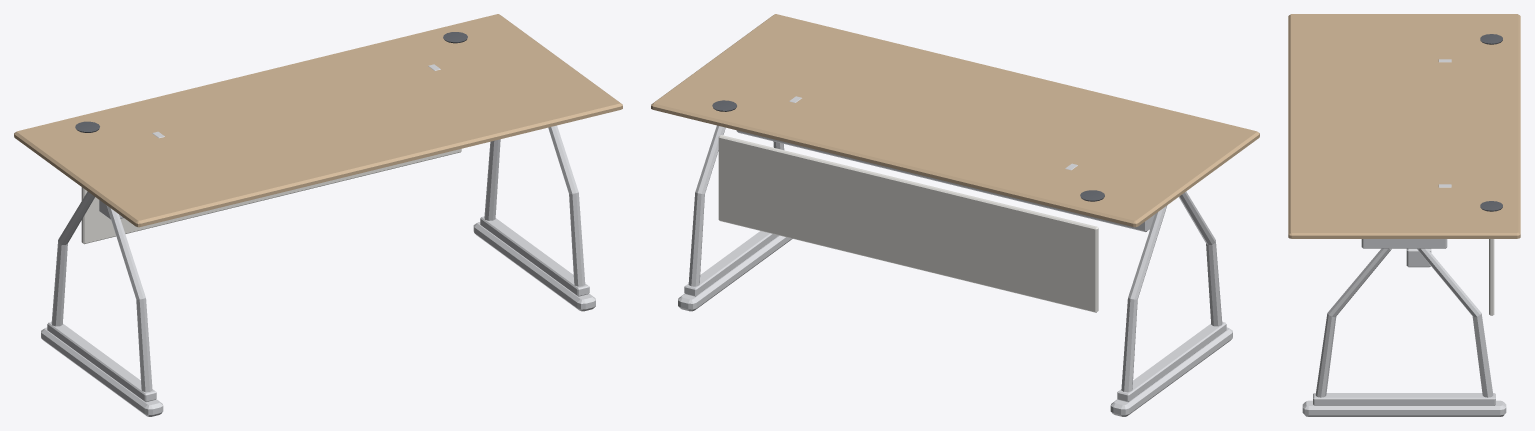
File: desk-1800-a-frame.glb
3 renders of one model, left to right at view 1: azimuth 30°, elevation 25°; view 2: azimuth 150°, elevation 25°; view 3: azimuth 270°, elevation 25°, orthographic. The views are drawn at different scales.
Visible parts, largest first — view 1: desk-1800-a-frame; view 2: desk-1800-a-frame; view 3: desk-1800-a-frame.
Boxes of the visible parts, left/top/right/bottom form: desk-1800-a-frame: left=14, top=14, right=622, bottom=416; desk-1800-a-frame: left=651, top=14, right=1259, bottom=416; desk-1800-a-frame: left=1288, top=14, right=1520, bottom=416.
Size of the model in its own units: 1.8 by 0.735 by 0.7999.
